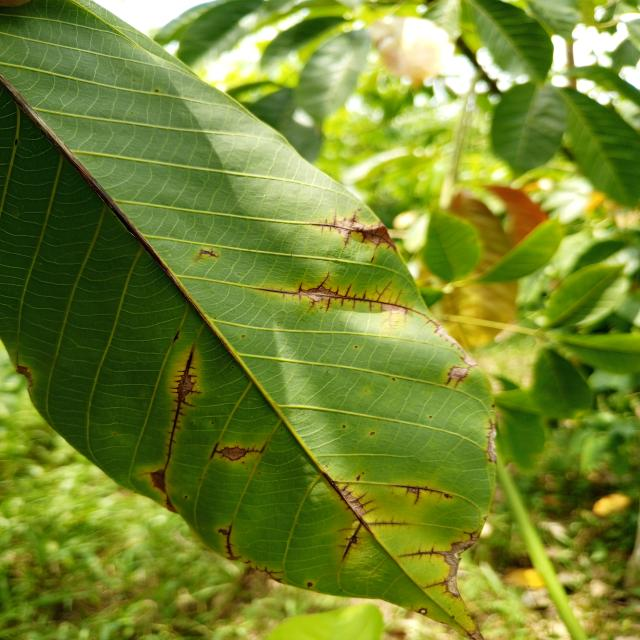Colletotrichum: (418, 608, 428, 614), (370, 432, 375, 435), (354, 346, 358, 348), (242, 335, 244, 338), (343, 425, 345, 428)
Corynespora: (249, 270, 439, 334), (162, 351, 203, 471), (311, 208, 396, 264), (323, 472, 378, 534), (391, 482, 443, 505), (209, 441, 266, 461), (339, 522, 363, 560), (219, 522, 241, 560), (444, 364, 478, 388), (398, 546, 445, 560), (368, 516, 410, 530), (256, 565, 284, 583), (423, 578, 450, 594), (193, 246, 219, 262)
Leaf-Blight: (443, 539, 476, 595), (150, 468, 167, 493), (487, 425, 498, 461), (17, 366, 32, 386), (465, 628, 484, 640), (167, 495, 177, 513)
